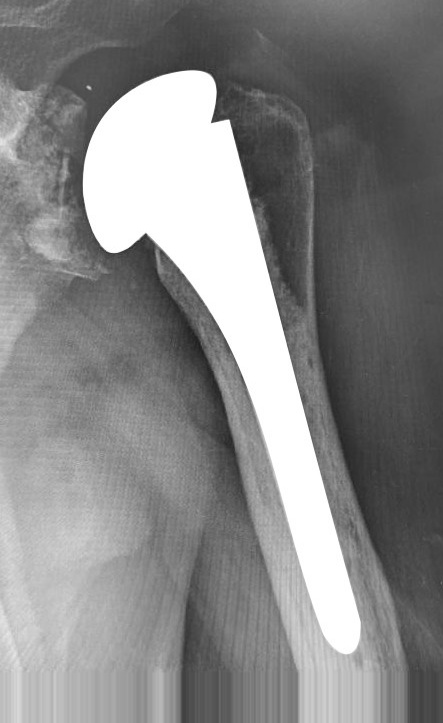Shoulder - Anotomyhead - Stryker: (75, 68, 243, 283)
Shoulder - Anotomytail - Stryker: (133, 114, 294, 332)
